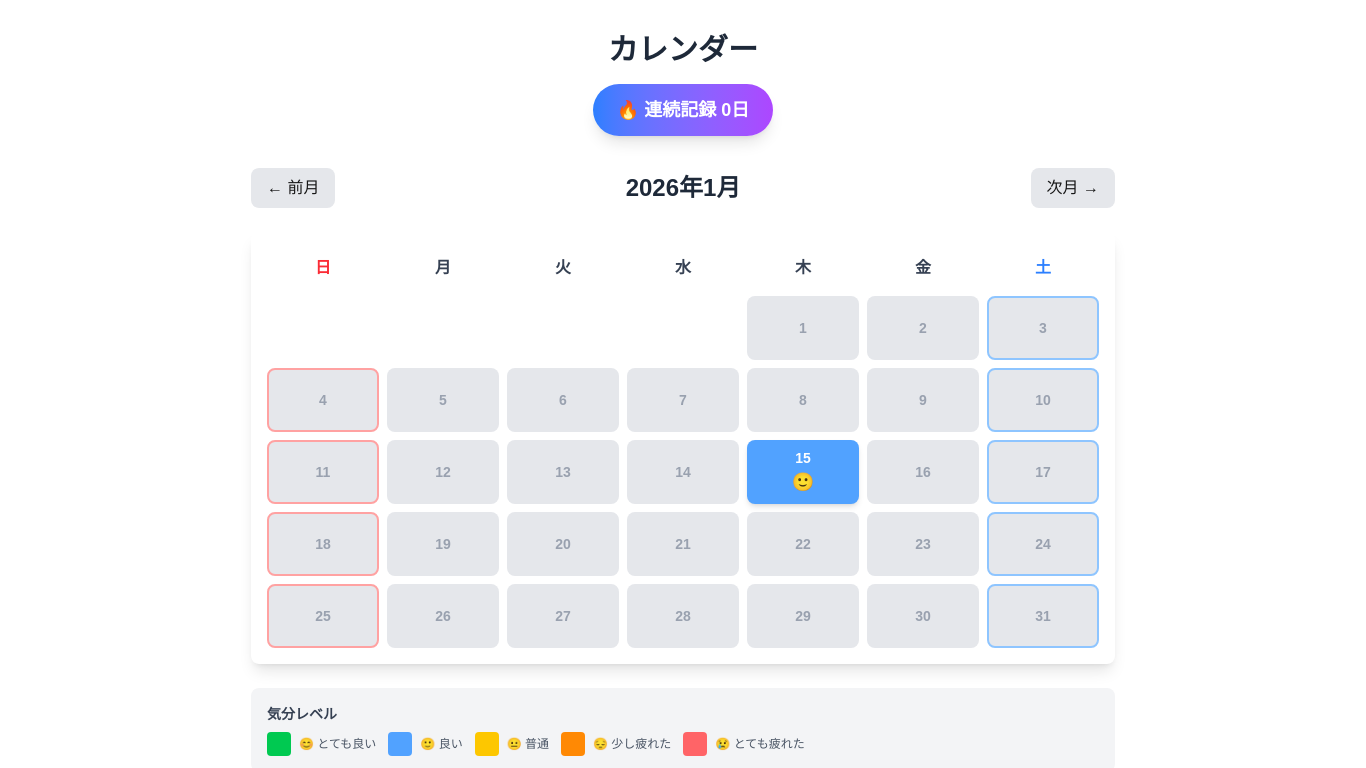
Test: Calendar Modal Flow Integration › 記録詳細表示フロー › 日付をクリックすると記録詳細モーダルが表示される
Expected: the heading "カレンダー" is shown, top-left (608, 33), bottom-right (758, 66)
記録がある日付をクリック
Click the button named "15日 記録あり" at (803, 472), box top-left (747, 440), bottom-right (859, 504)
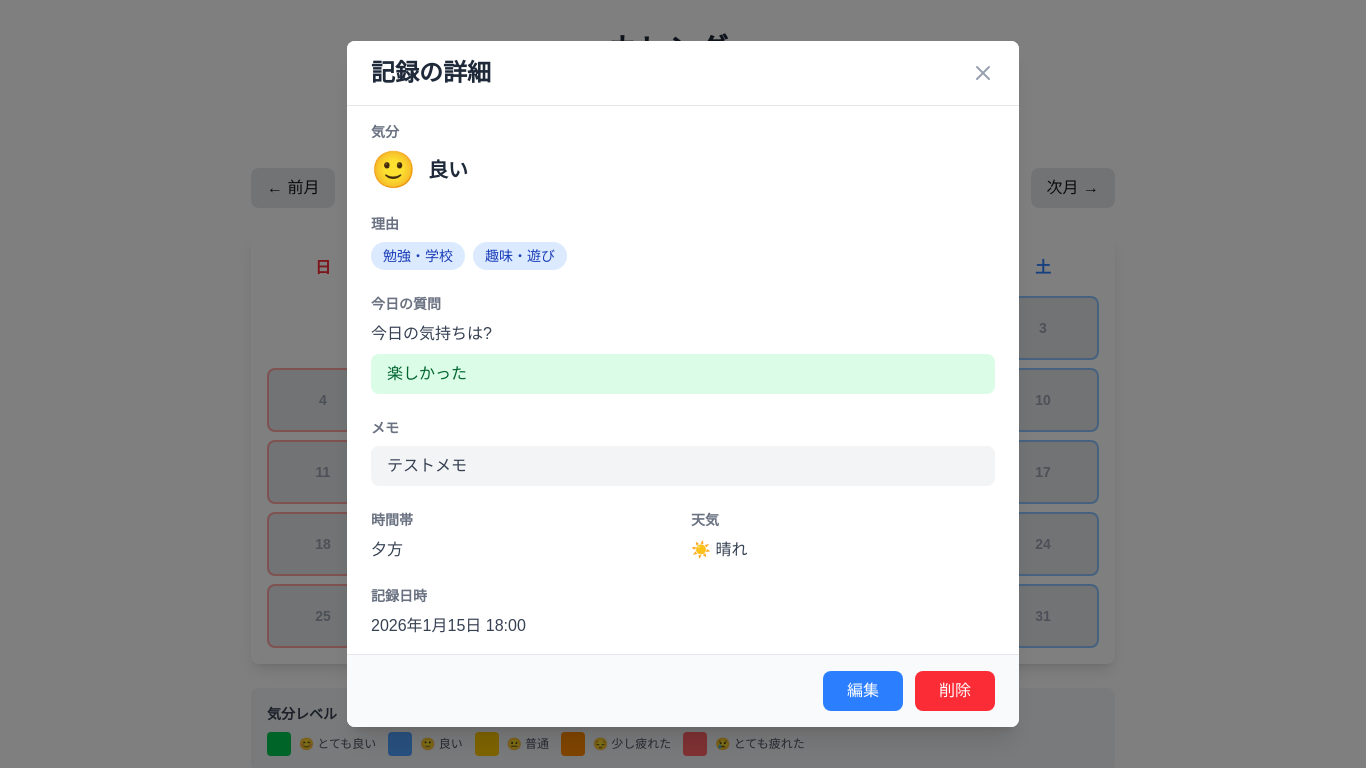
Expected: the heading "記録の詳細" is shown, top-left (371, 57), bottom-right (491, 89)
Expected: the text "良い" is shown, top-left (428, 156), bottom-right (468, 184)
Expected: the text "今日の気持ちは?" is shown, top-left (371, 325), bottom-right (492, 342)
